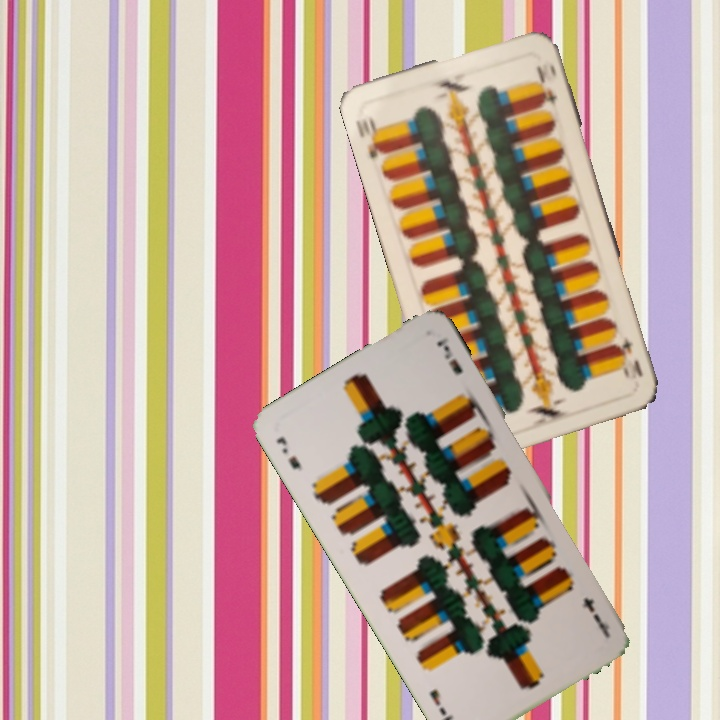E10: (351, 111, 389, 161), (612, 334, 646, 382)
E7: (580, 593, 612, 637), (272, 432, 305, 474)
